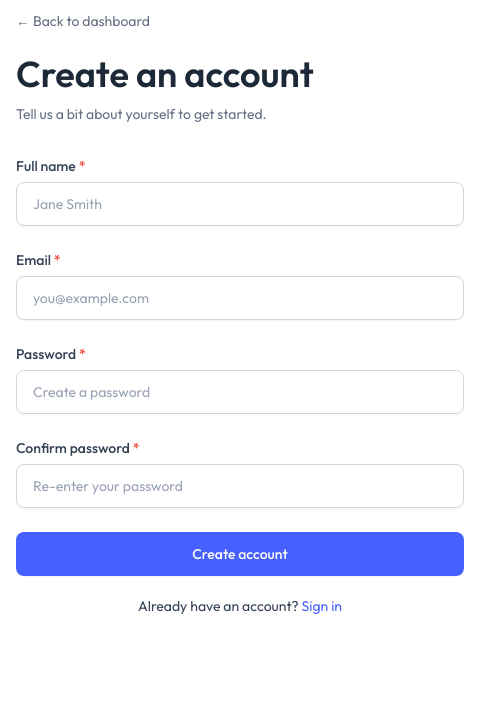
Test: SignUpForm › shows validation errors for missing values
Click the button "Create account" at [240, 554], box [16,532,464,576]
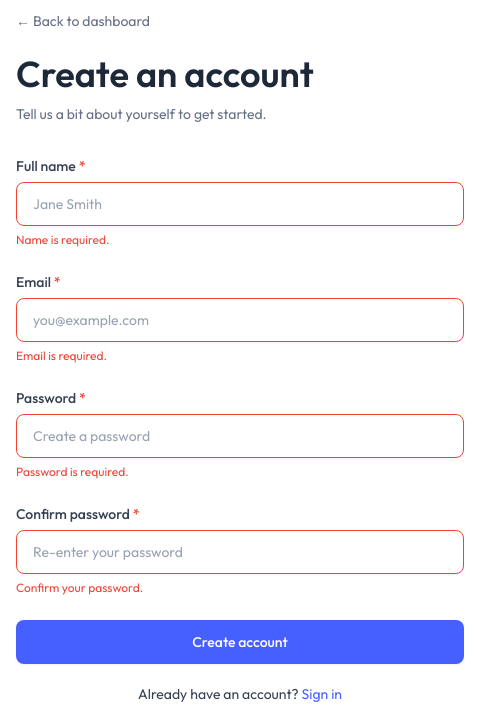
Check: the text "Name is required." is shown, box [16,232,110,247]
Check: the text "Email is required." is shown, box [16,348,107,363]
Check: the text "Password is required." is shown, box [16,464,129,479]
